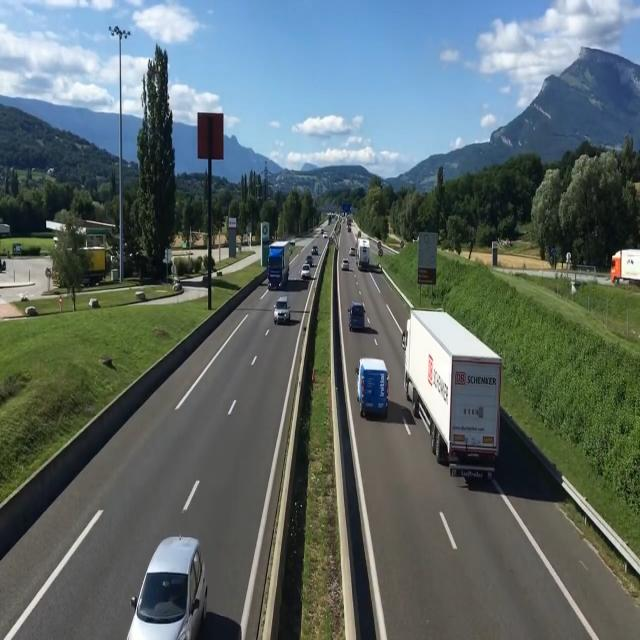car: (126, 532, 210, 640), (357, 356, 390, 424), (274, 289, 294, 330), (350, 302, 371, 334), (341, 253, 352, 276), (301, 264, 311, 284)
truck: (407, 300, 498, 498), (266, 233, 295, 294), (612, 245, 640, 288), (358, 230, 373, 275)
